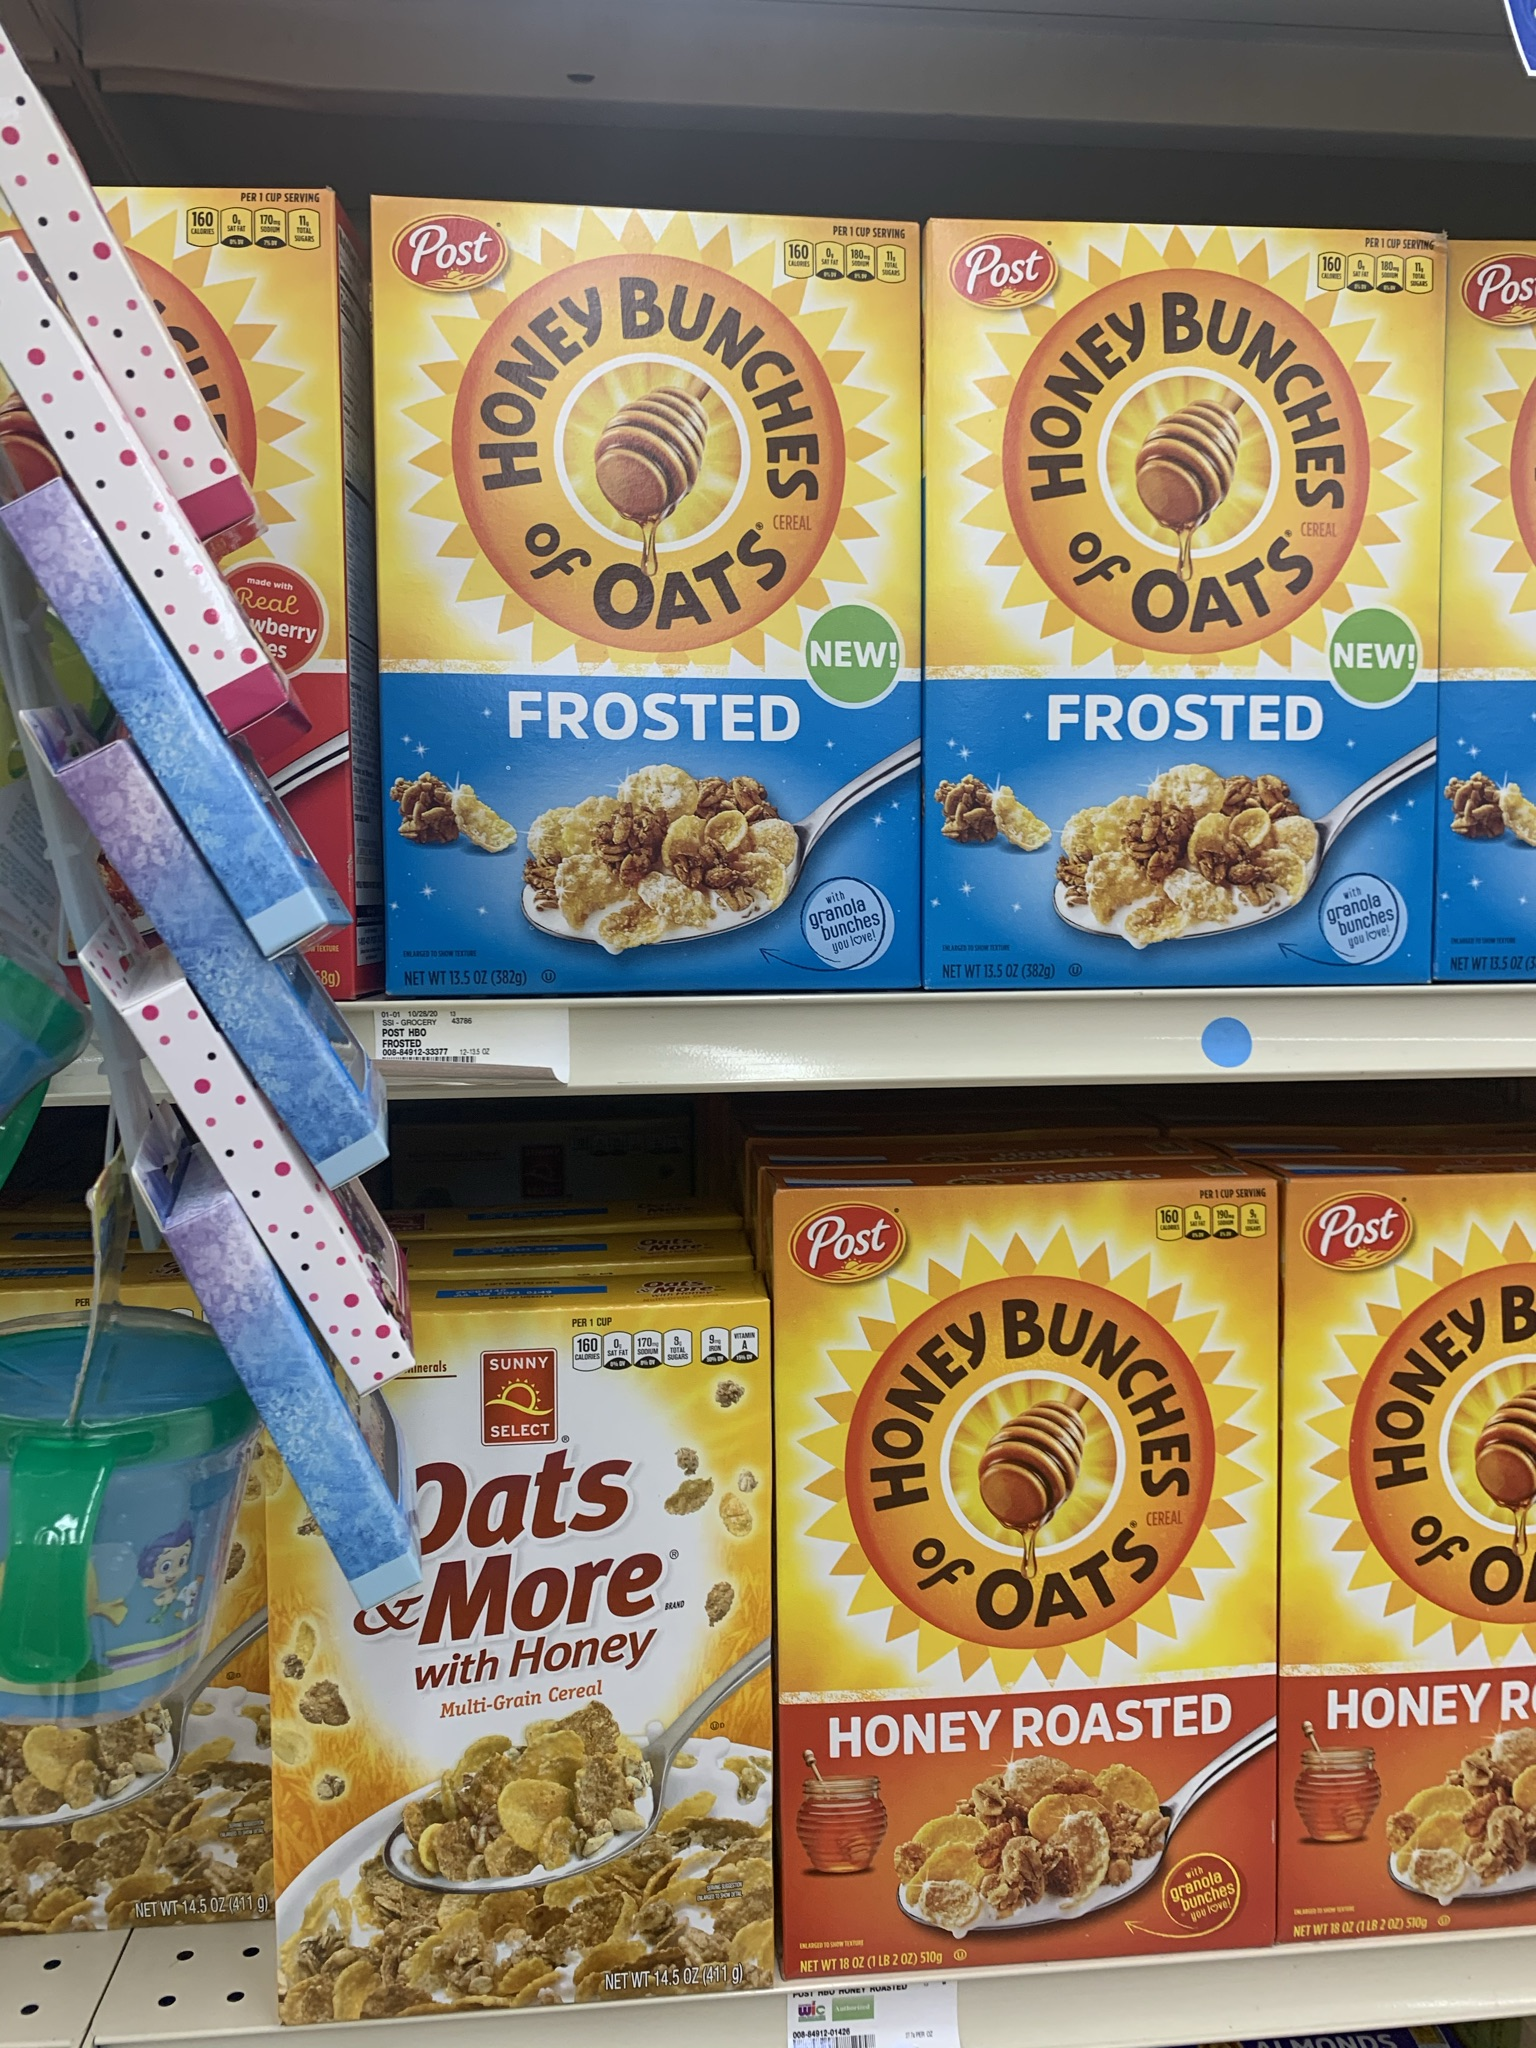Cereal: (365, 202, 925, 992), (766, 1172, 1288, 1969), (916, 211, 1447, 985)
